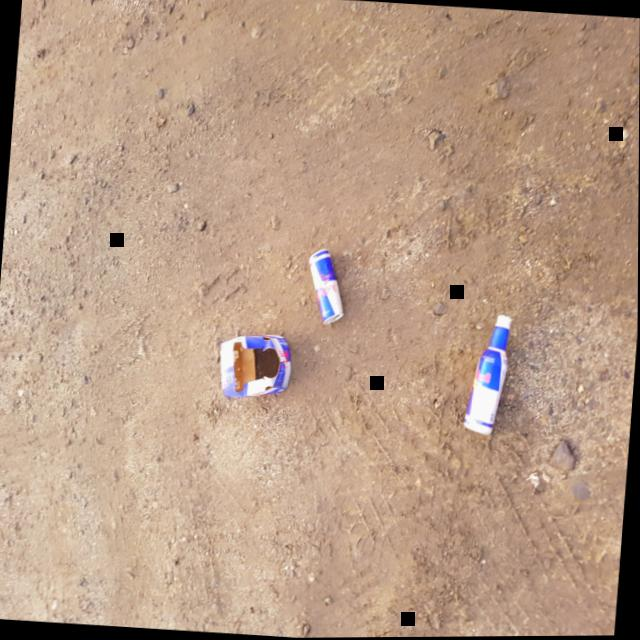Drink can: (309, 248, 344, 323)
Other carton: (220, 335, 292, 396)
Other plastic container: (464, 315, 512, 435)
Pop tab: (330, 316, 336, 321)
